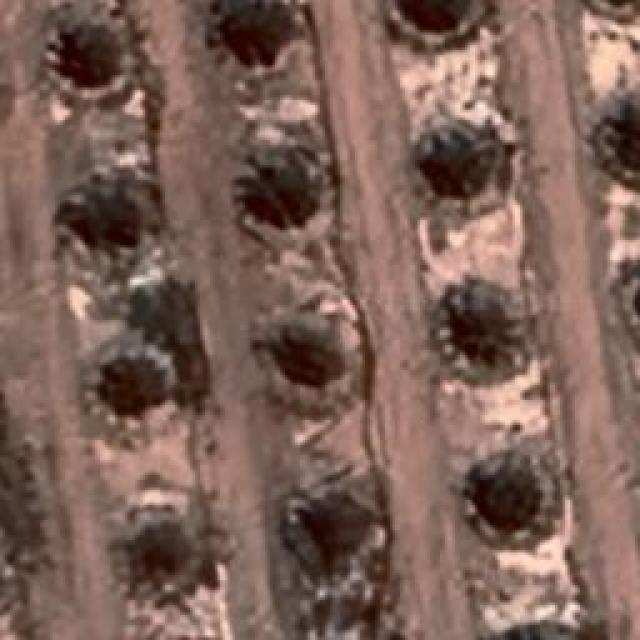PalmTree: (281, 471, 391, 591), (128, 509, 228, 619), (458, 454, 562, 558), (412, 128, 512, 216), (260, 318, 352, 398), (72, 185, 160, 268), (431, 281, 509, 361), (236, 0, 312, 80), (96, 358, 179, 430), (240, 158, 320, 226), (592, 91, 640, 174), (482, 613, 611, 640), (52, 13, 106, 68), (400, 0, 478, 38)
